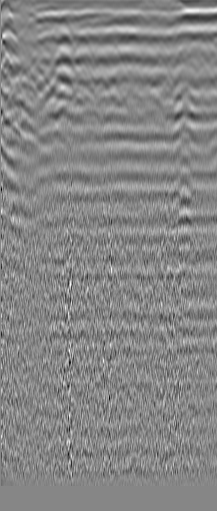오수: (49, 13, 78, 48)
우수: (178, 44, 210, 68)
